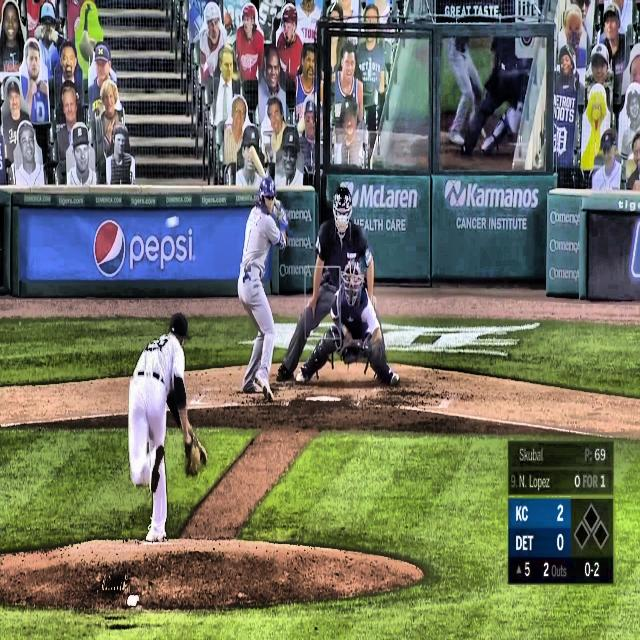baseball: (165, 213, 179, 230)
